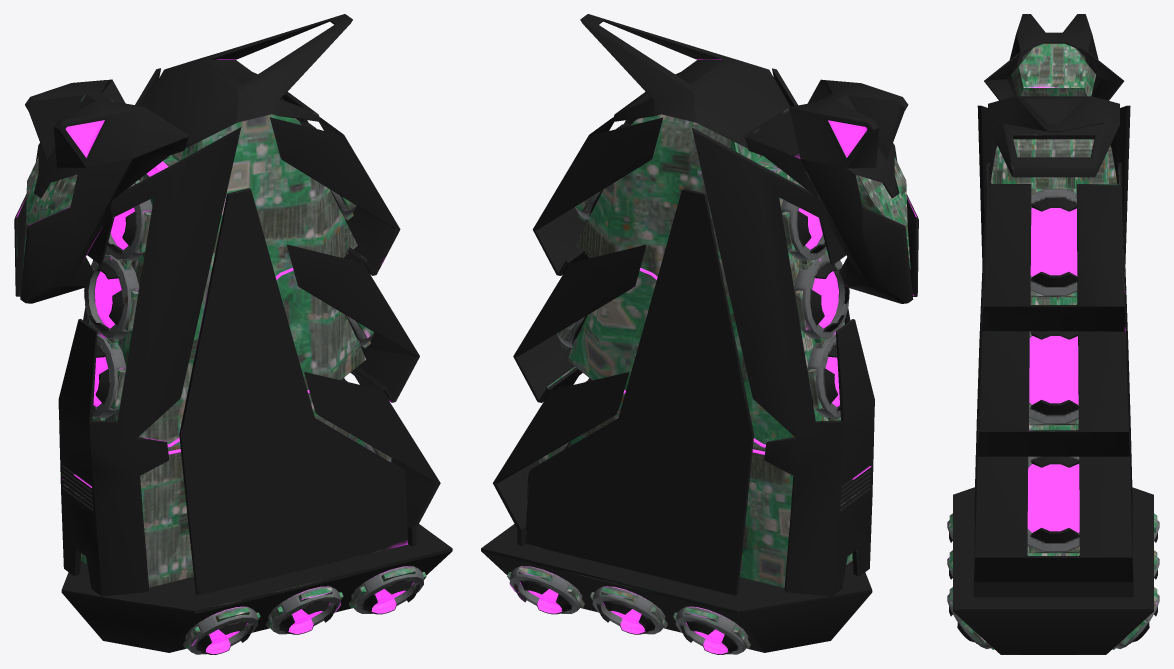
File: trojan_LOD_single.fbx
The picture shows the model from 3 angles, left to right: view 1: azimuth 30°, elevation 25°; view 2: azimuth 150°, elevation 25°; view 3: azimuth 270°, elevation 25°; orthographic projection. The views are drawn at different scales.
Visible parts, largest first — view 1: Trojan_mesh_LOD0; view 2: Trojan_mesh_LOD0; view 3: Trojan_mesh_LOD0.
Boxes of the visible parts, x1,y1,x2,y2 form: Trojan_mesh_LOD0: (14, 14, 452, 654); Trojan_mesh_LOD0: (481, 14, 918, 654); Trojan_mesh_LOD0: (947, 14, 1159, 654).
Size of what is drawn, in the model's own units: 279 by 400 by 149.
